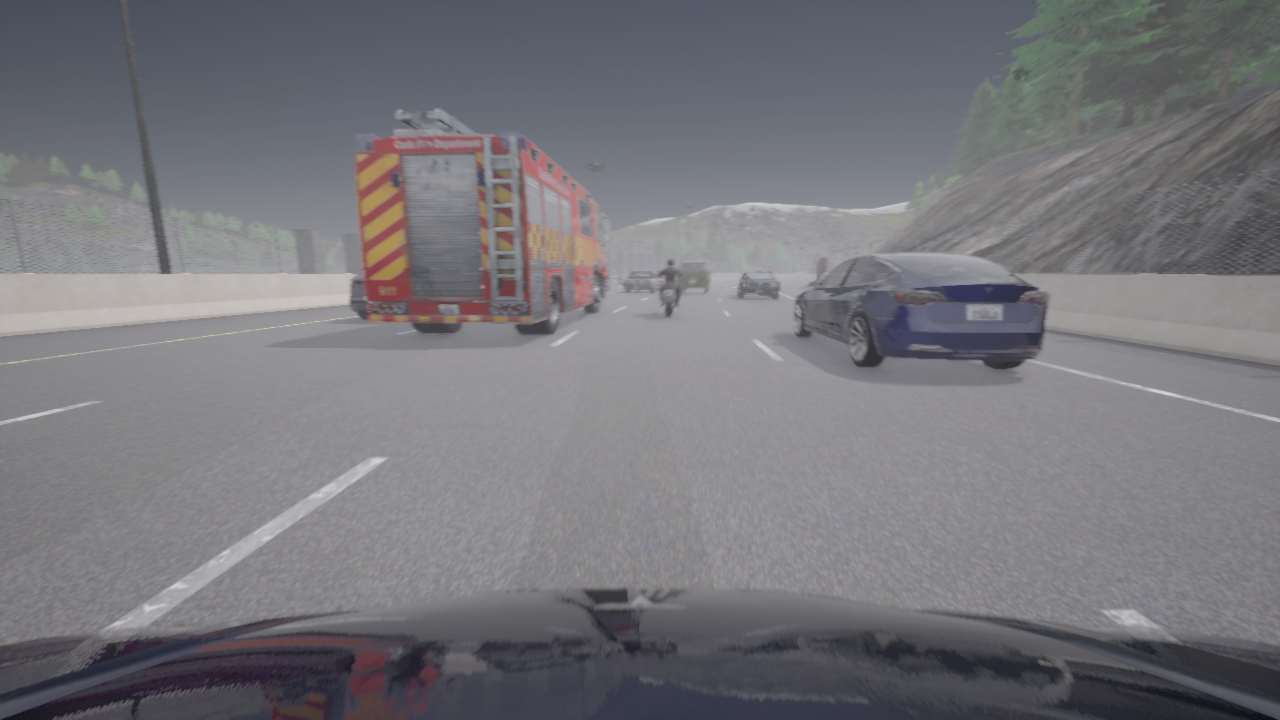cyclist: (0, 588, 1279, 719), (356, 109, 611, 334), (793, 253, 1049, 369), (658, 271, 683, 317), (737, 271, 779, 298), (678, 260, 712, 293), (350, 268, 369, 319), (623, 272, 662, 292), (603, 254, 613, 291)
